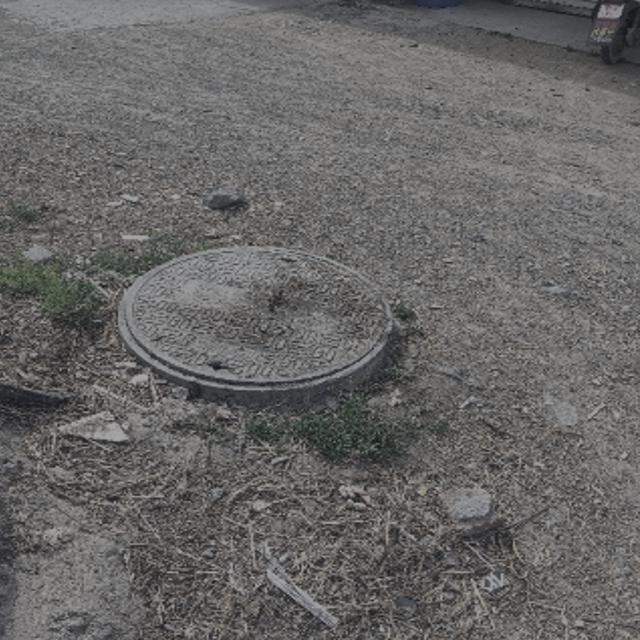good: (117, 245, 394, 391)
